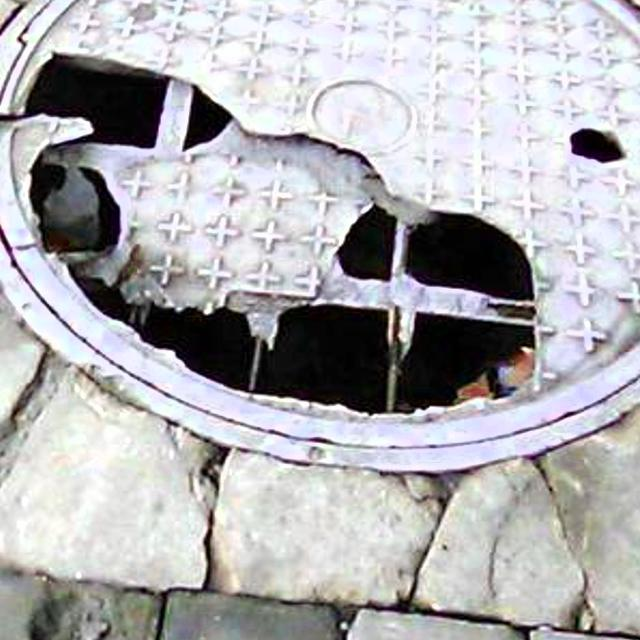broke: (0, 0, 640, 565)
